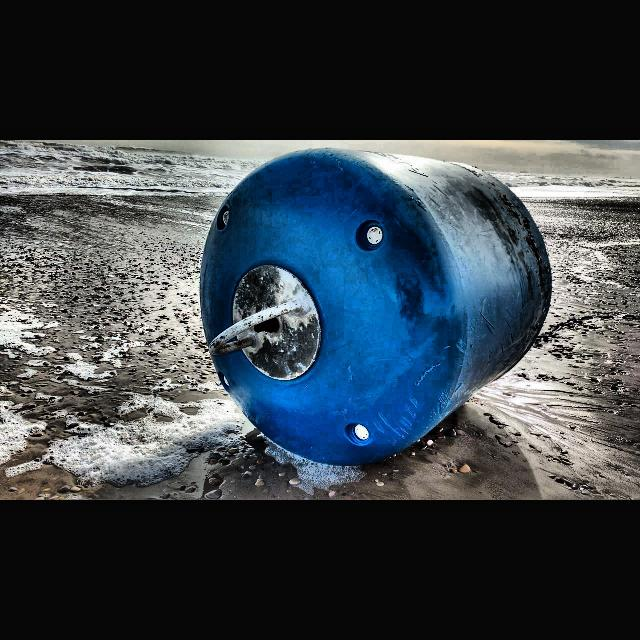buoy: (200, 146, 554, 470)
